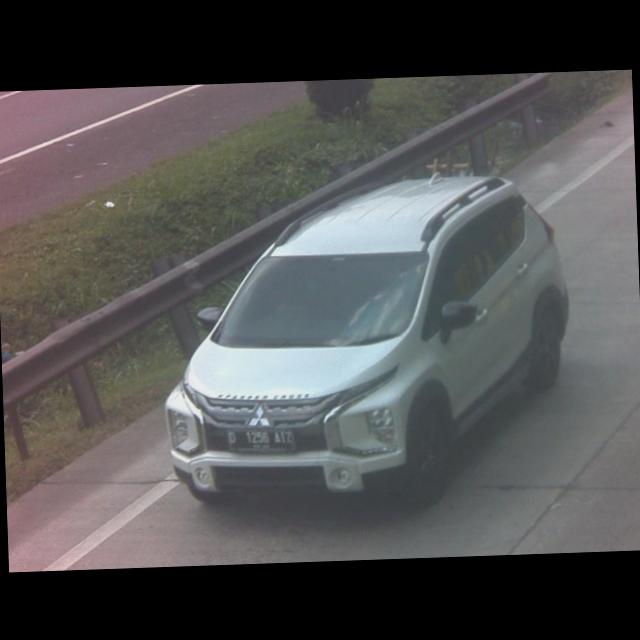plate: (225, 422, 295, 452)
